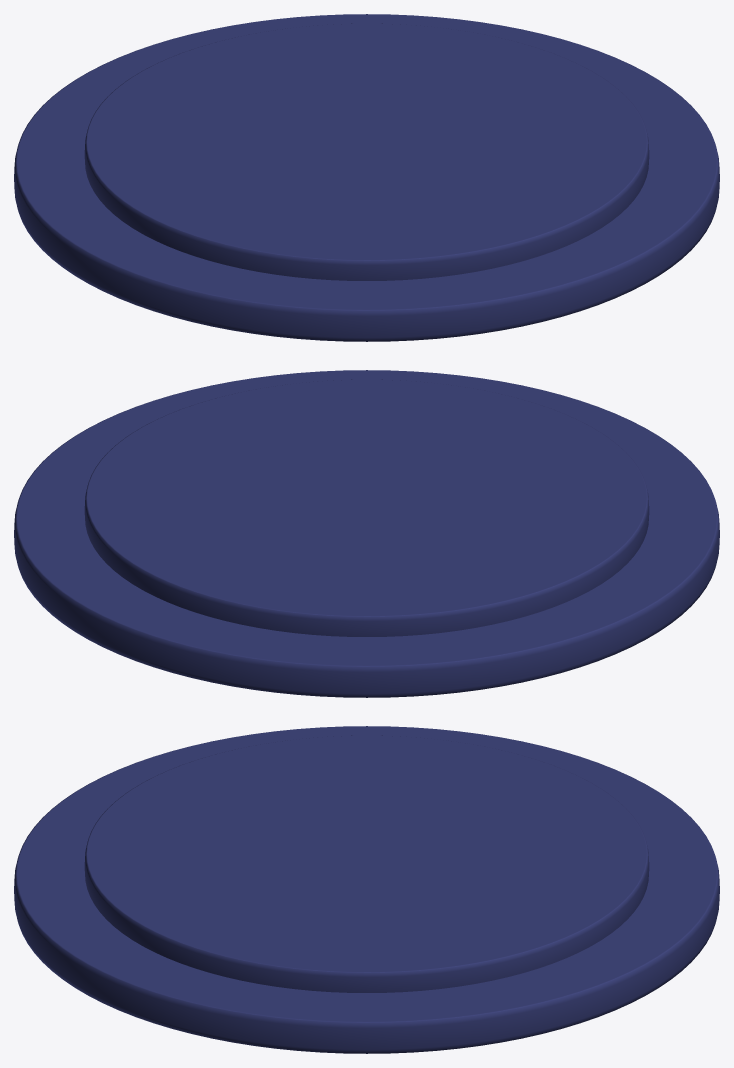
3 views of the same model, one above another, from view 1: azimuth 30°, elevation 25°; view 2: azimuth 150°, elevation 25°; view 3: azimuth 270°, elevation 25° (orthographic).
Parts seen in each view (by area): view 1: Cylinder; view 2: Cylinder; view 3: Cylinder.
Part boxes in pixels (bbox=[...]): Cylinder: bbox=[14, 14, 719, 341]; Cylinder: bbox=[14, 370, 719, 697]; Cylinder: bbox=[14, 726, 719, 1053].
Bounding box in the file's own units: 2.72 × 0.2219 × 2.72.
